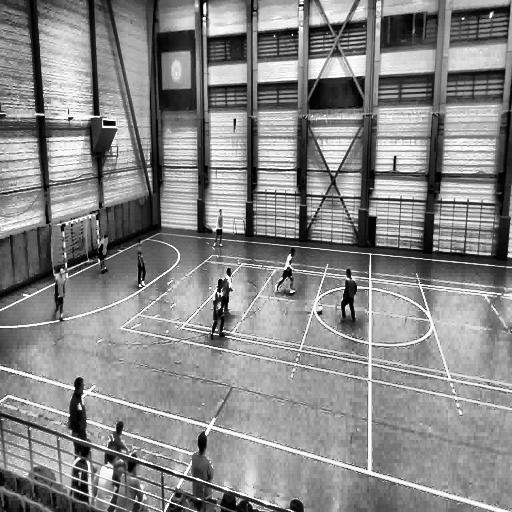ball: (316, 304, 324, 316)
player: (68, 379, 86, 451), (211, 278, 227, 340), (275, 247, 296, 293), (340, 267, 357, 323), (220, 266, 236, 320), (54, 264, 67, 322), (136, 238, 146, 288), (98, 233, 108, 274), (214, 208, 224, 249)
